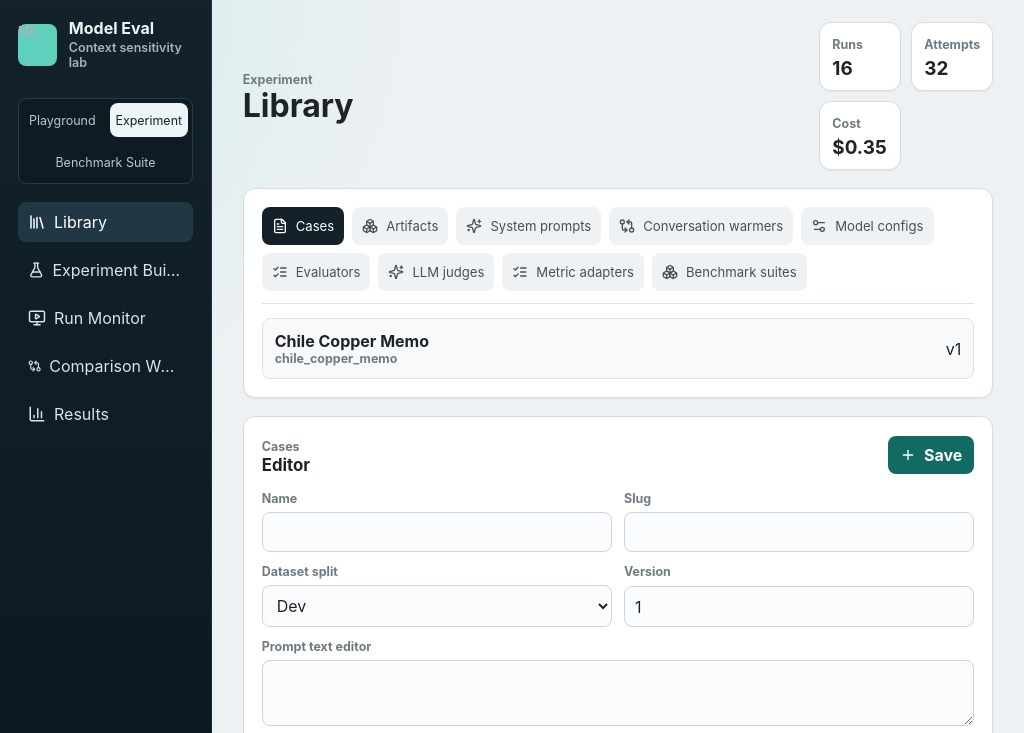
Test case: App experiment builder › rejects unsupported edits to existing artifacts instead of discarding them
Click the tab "Artifacts". click: click(400, 226)
box: [352,207,448,245]
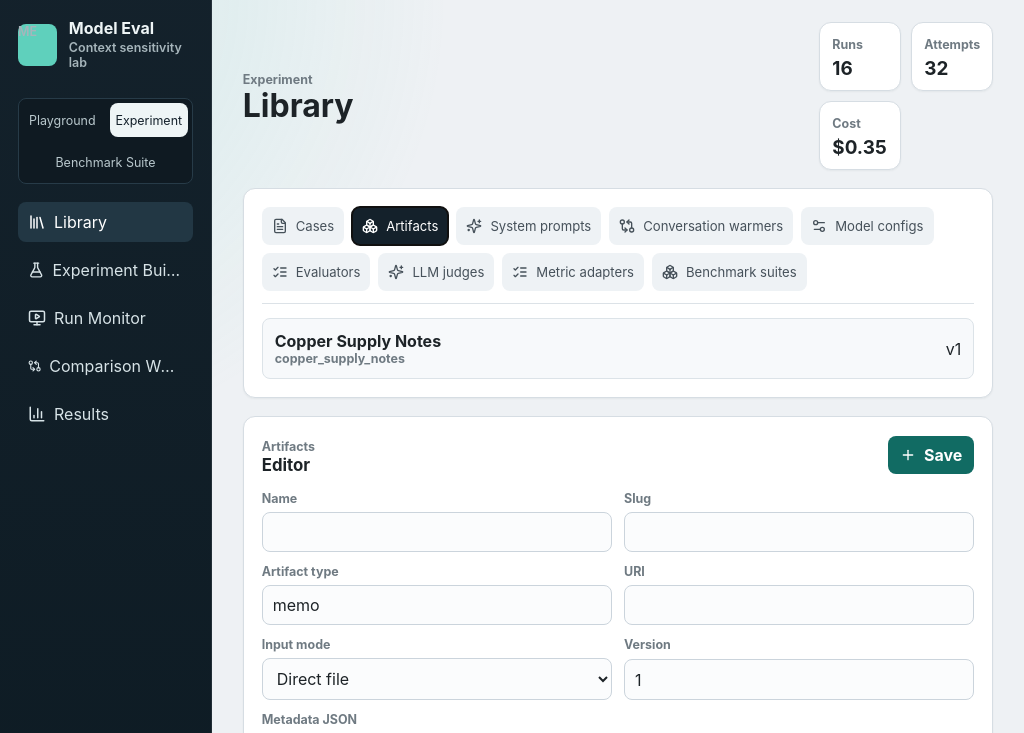
Click the button "Copper Supply Notes copper_supply_notes v1". click: click(358, 341)
box: [262,318,974,379]
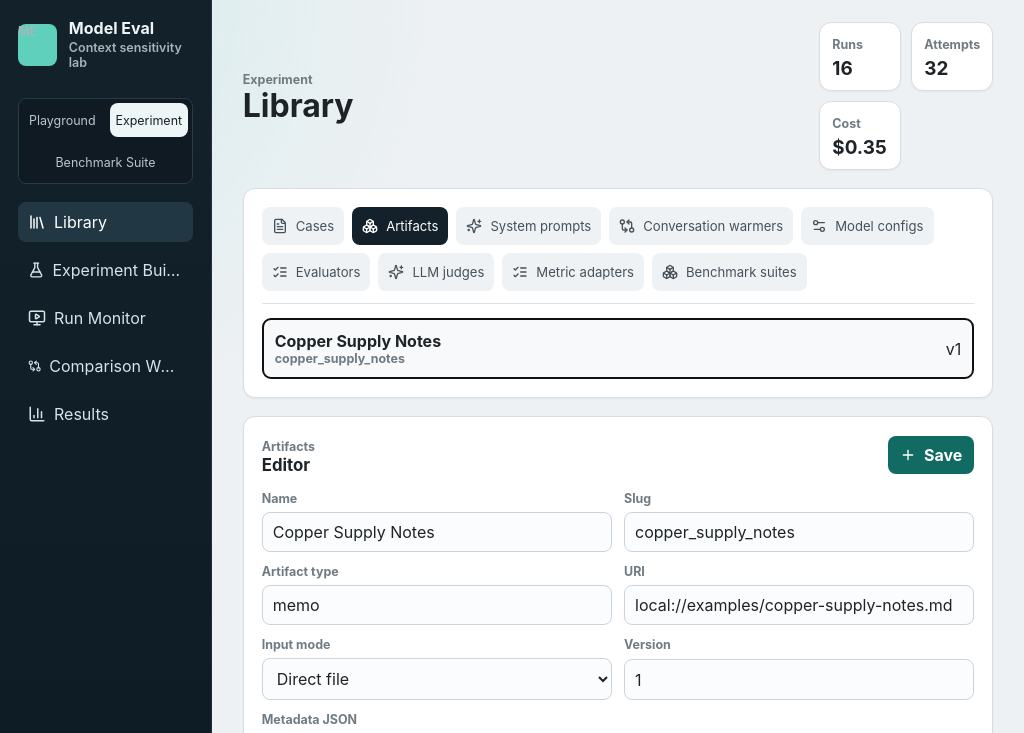
Replace the text in the field labelled "Name" with "Edited artifact". click: (437, 532)
box: [262,512,612,552]
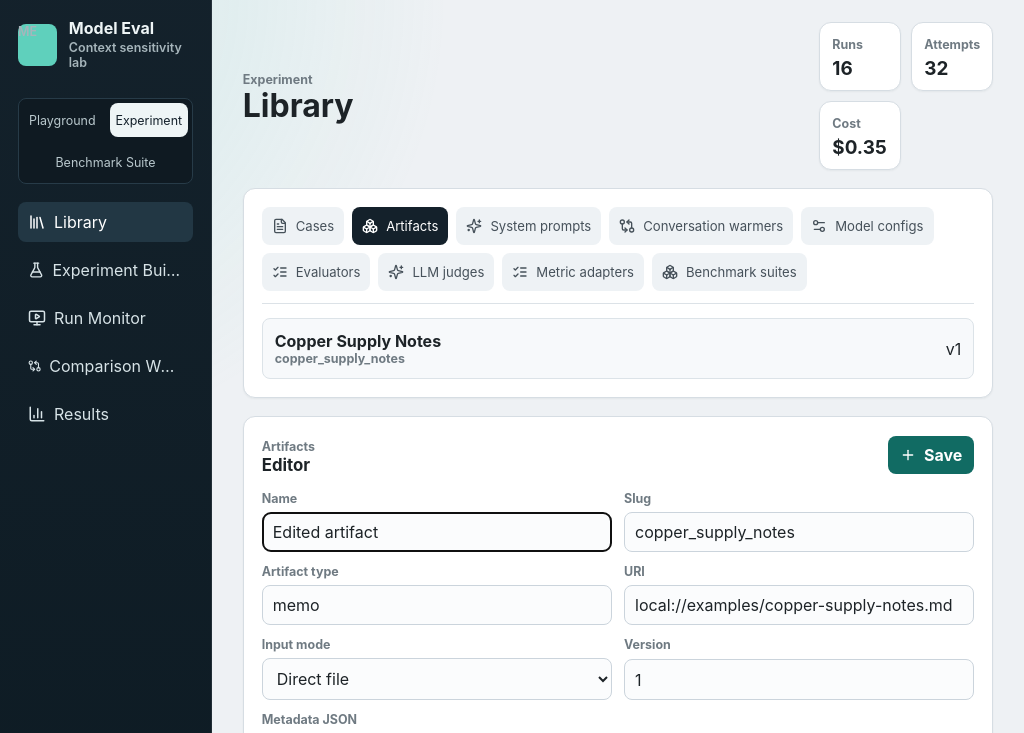
Click the button "Save". click: click(931, 455)
box: [888,436,974,474]
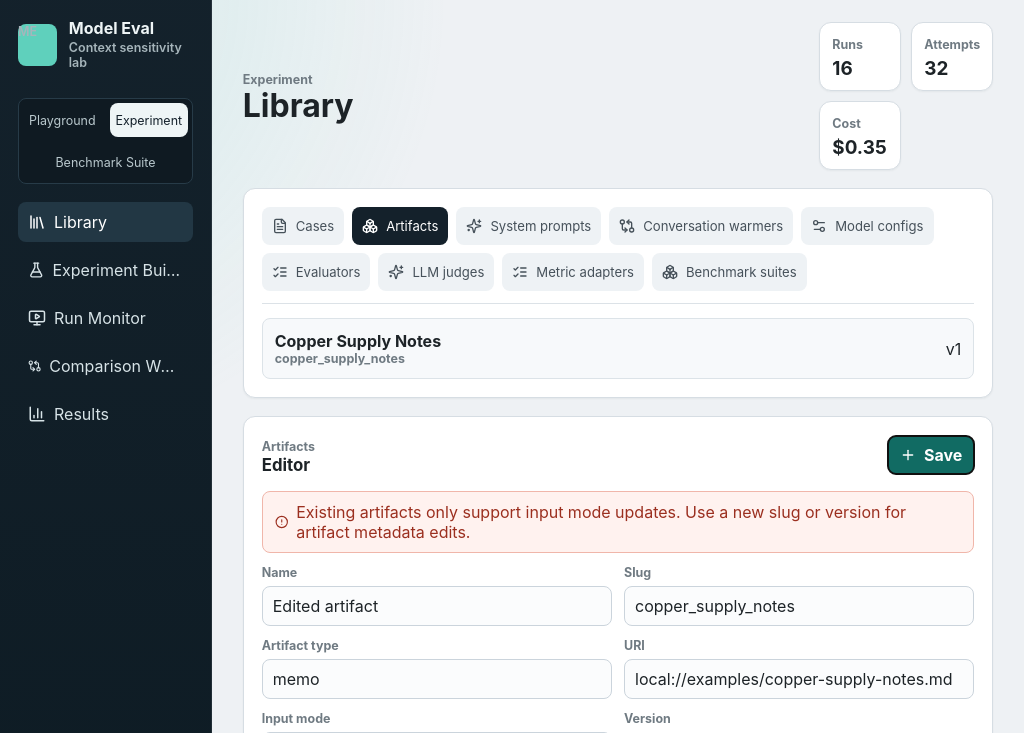
expect the message shows "Existing artifacts only support input mode updates.": met, box [296,502,906,542]
